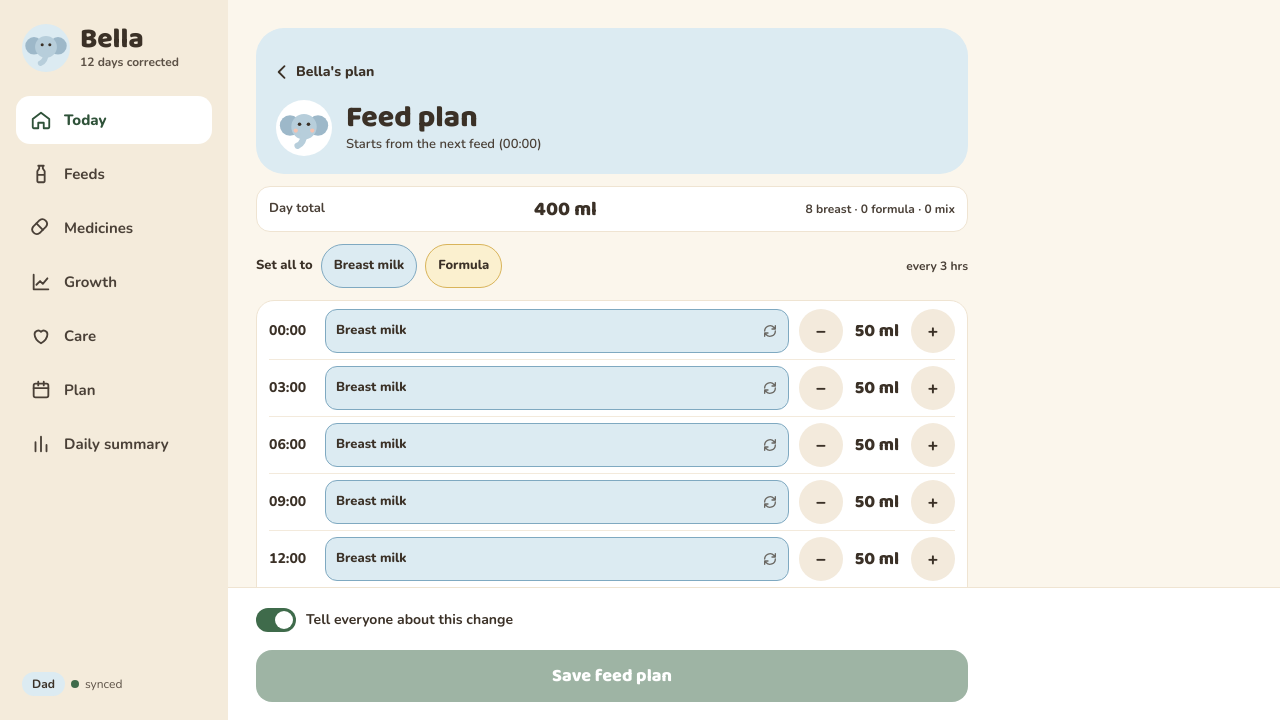
Test: feed plan editor › changes an amount in 5 ml steps
The image size is (1280, 720).
Click the button named "5 ml more": (933, 559) [911,537,955,581]
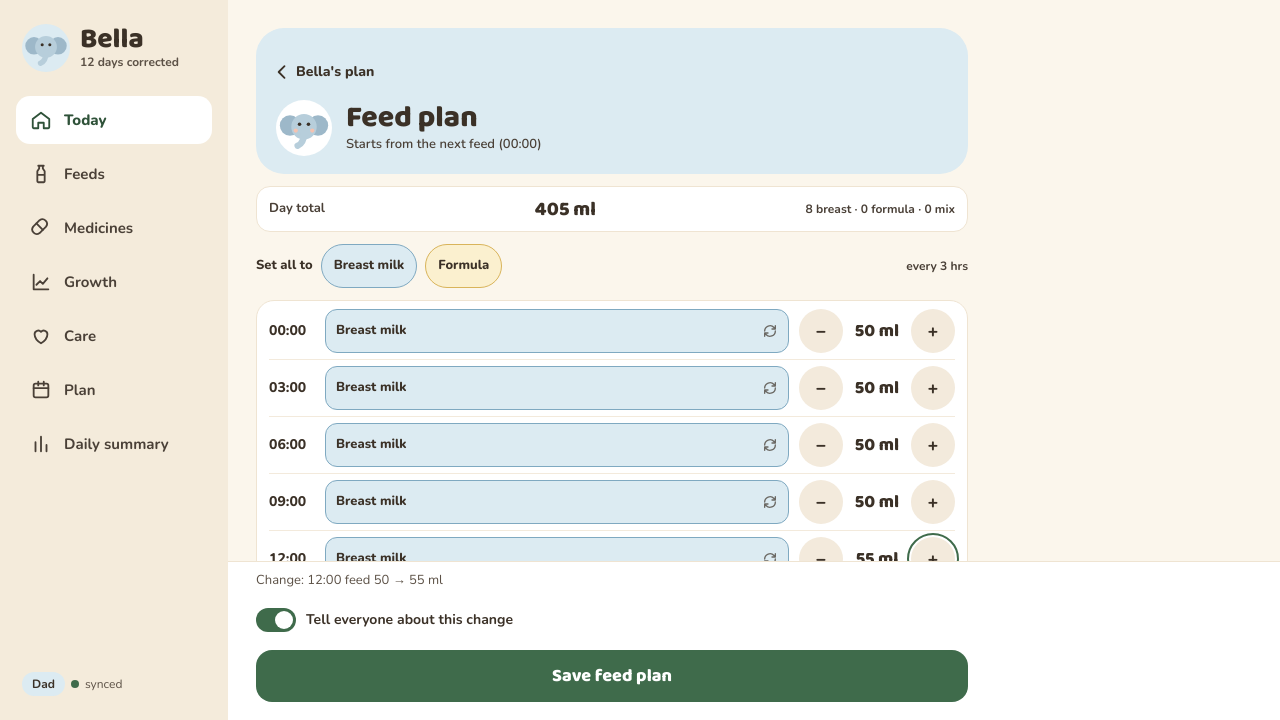
Now the text "55 ml" is shown, box [856,545,898,573]
Now the text "405 ml" is shown, box [534,195,596,223]
